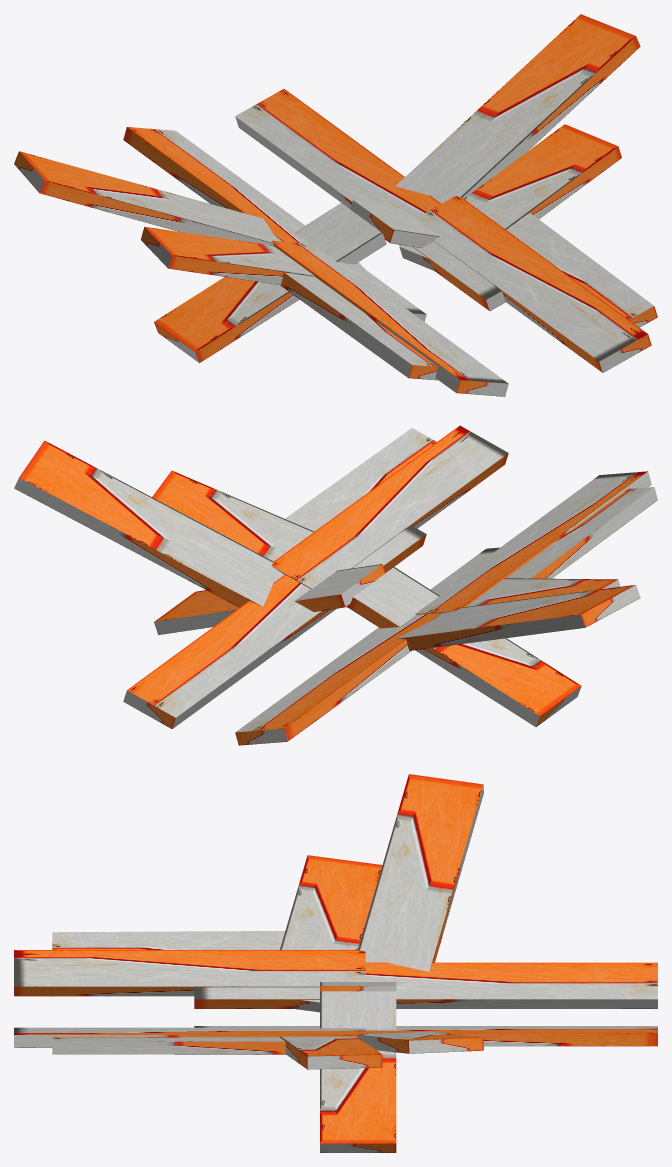
File: E_shipclass1.fbx
3 renders of one model, top to bottom at view 1: azimuth 30°, elevation 25°; view 2: azimuth 150°, elevation 25°; view 3: azimuth 270°, elevation 25°, orthographic. The views are drawn at different scales.
Visible parts, largest first — view 1: Enemyship01; view 2: Enemyship01; view 3: Enemyship01.
Boxes of the visible parts, x1,y1,x2,y2 form: Enemyship01: (14,14,657,396); Enemyship01: (14,425,657,745); Enemyship01: (14,774,657,1152).
Size of the model in its own units: 437 by 121 by 439.
1 material, 1 textured.
